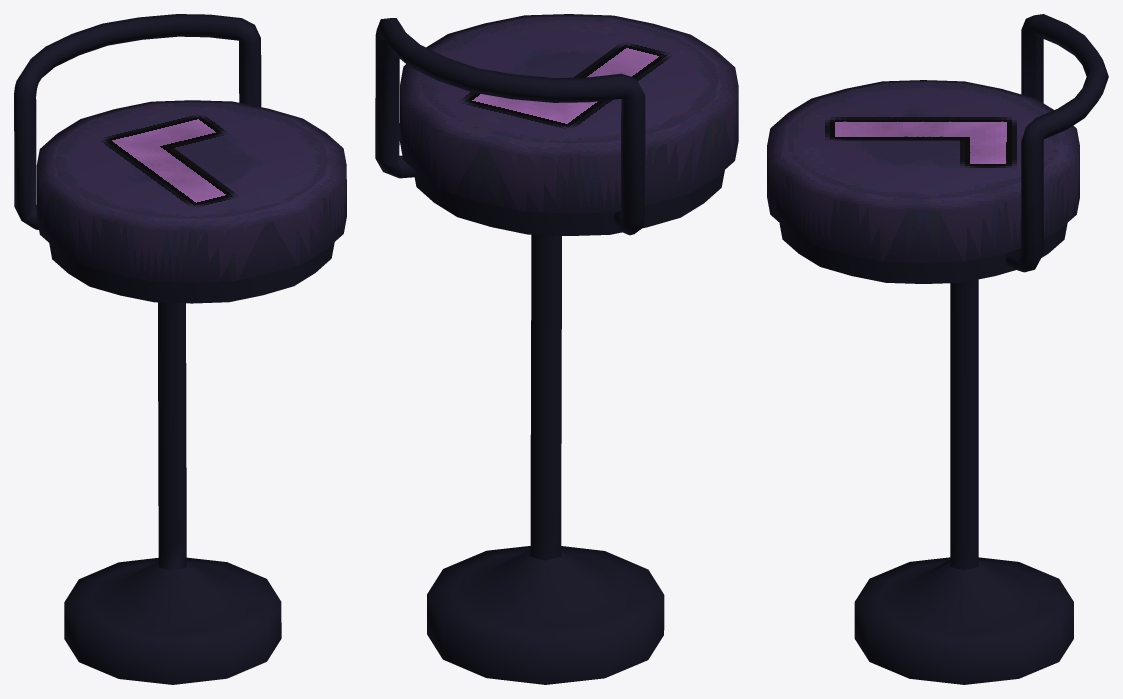
Rendered from waluigichair.obj.
3 views of the same model, side by side, from view 1: azimuth 30°, elevation 25°; view 2: azimuth 150°, elevation 25°; view 3: azimuth 270°, elevation 25° (orthographic). The views are drawn at different scales.
Parts seen in each view (by area): view 1: chairL.png; view 2: chairL.png; view 3: chairL.png.
Boxes of the visible parts, box(x1,y1,x2,y2) form: chairL.png: box(14, 14, 346, 684); chairL.png: box(375, 14, 738, 684); chairL.png: box(767, 14, 1108, 684).
Bounding box in the file's own units: 26.01 × 52.35 × 28.4.
Materials: 1 (1 with a texture image).
